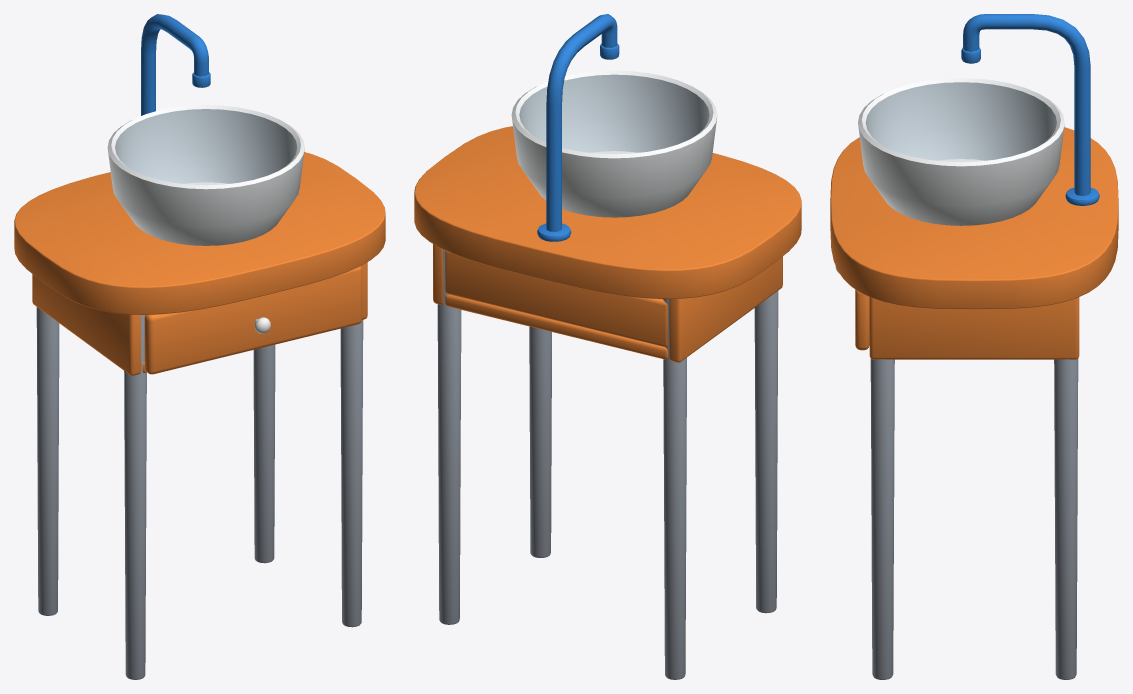
Rendered from mesinha_cuba_laranja.glb.
The picture shows the model from 3 angles, left to right: view 1: azimuth 30°, elevation 25°; view 2: azimuth 150°, elevation 25°; view 3: azimuth 270°, elevation 25°; orthographic projection. The views are drawn at different scales.
Parts seen in each view (by area): view 1: mesinha_cuba_laranja, gaveta_1; view 2: mesinha_cuba_laranja; view 3: mesinha_cuba_laranja, gaveta_1.
Boxes of the visible parts, x1,y1,x2,y2 form: mesinha_cuba_laranja: (14,14,385,679); gaveta_1: (144,266,361,374); mesinha_cuba_laranja: (414,14,801,679); mesinha_cuba_laranja: (830,14,1118,679); gaveta_1: (835,266,869,350).
Size of the model in its own units: 0.58 by 1.02 by 0.44.
1 material, 1 textured.
